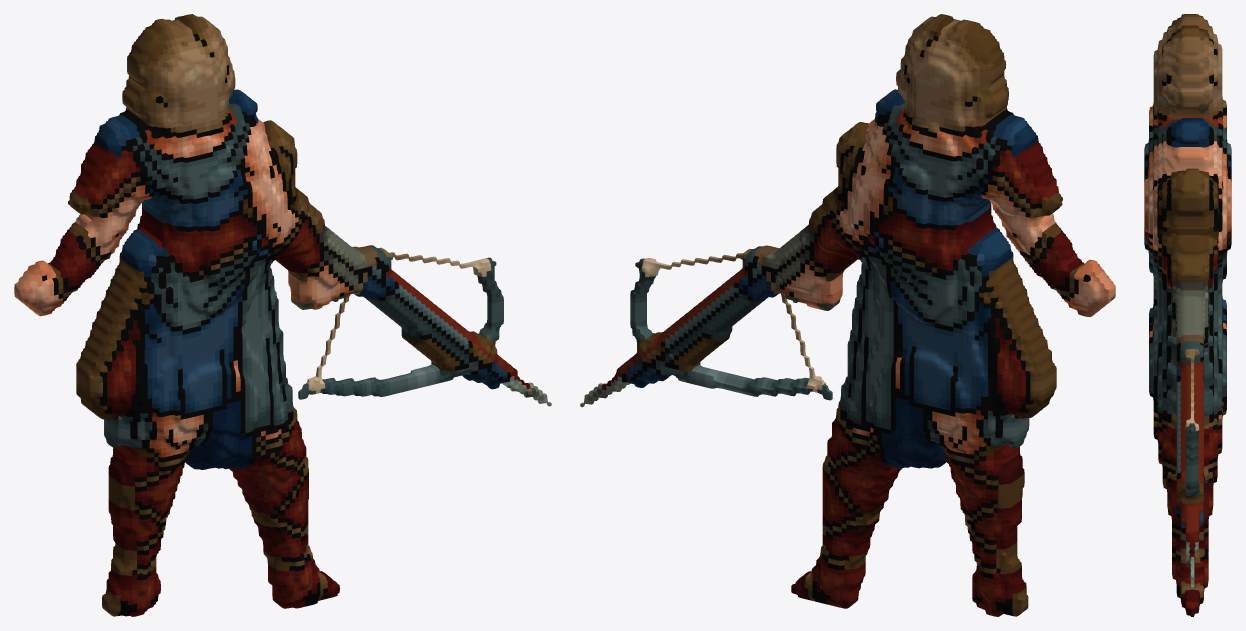
File: Fight_006_1_01.obj
3 views of the same model, side by side, from view 1: azimuth 30°, elevation 25°; view 2: azimuth 150°, elevation 25°; view 3: azimuth 270°, elevation 25° (orthographic). The views are drawn at different scales.
Size of the model in its own units: 11.58 by 12.7 by 1.9.
